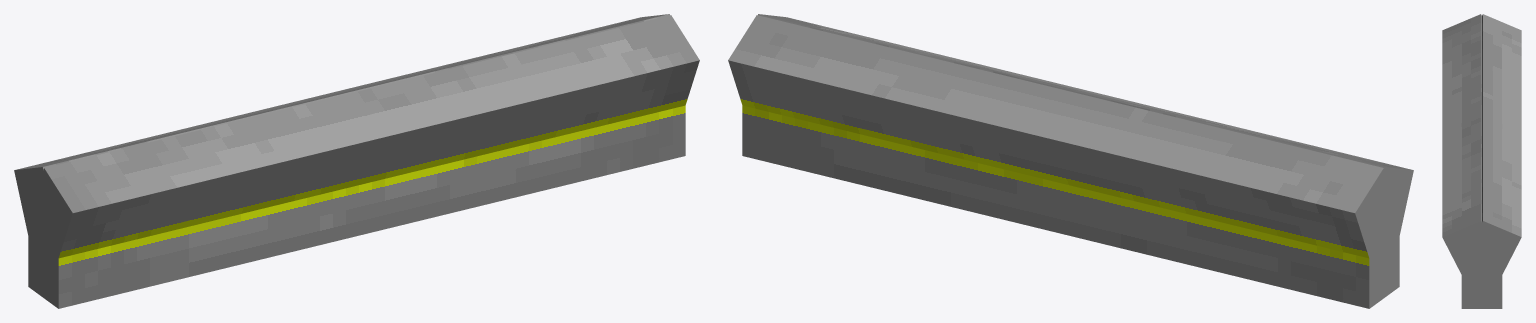
The model's file is Half_wall.gltf.
The picture shows the model from 3 angles, left to right: view 1: azimuth 30°, elevation 25°; view 2: azimuth 150°, elevation 25°; view 3: azimuth 270°, elevation 25°; orthographic projection. The views are drawn at different scales.
Visible parts, largest first — view 1: Lab_wall2, Lab_wall1; view 2: Lab_wall1, Lab_wall2; view 3: Lab_wall1, Lab_wall2.
Part boxes in pixels (box(x1,y1,x2,y2)): Lab_wall2: box(37, 15, 699, 308); Lab_wall1: box(14, 14, 669, 298); Lab_wall1: box(728, 15, 1392, 308); Lab_wall2: box(758, 14, 1413, 298); Lab_wall1: box(1462, 14, 1521, 308); Lab_wall2: box(1442, 14, 1499, 308).
Size of the model in its own units: 3 by 0.5964 by 0.4875.
Materials: 1 (1 with a texture image).
